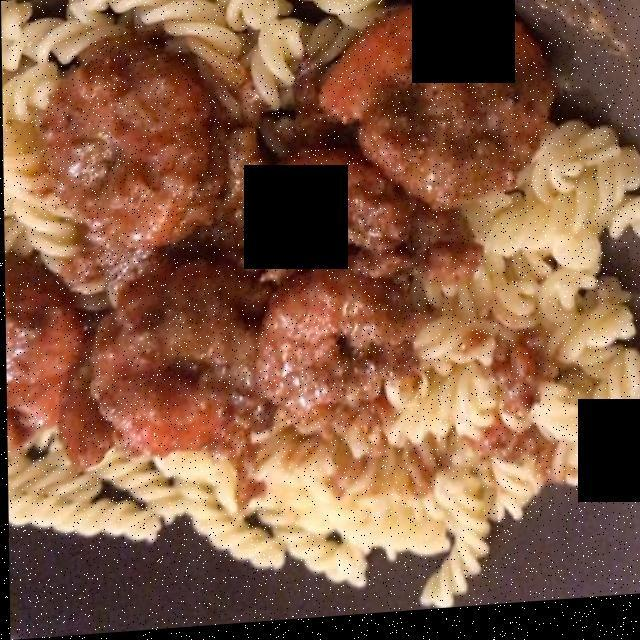pasta: (8, 4, 637, 582)
tomato-sauce: (12, 31, 532, 485)
